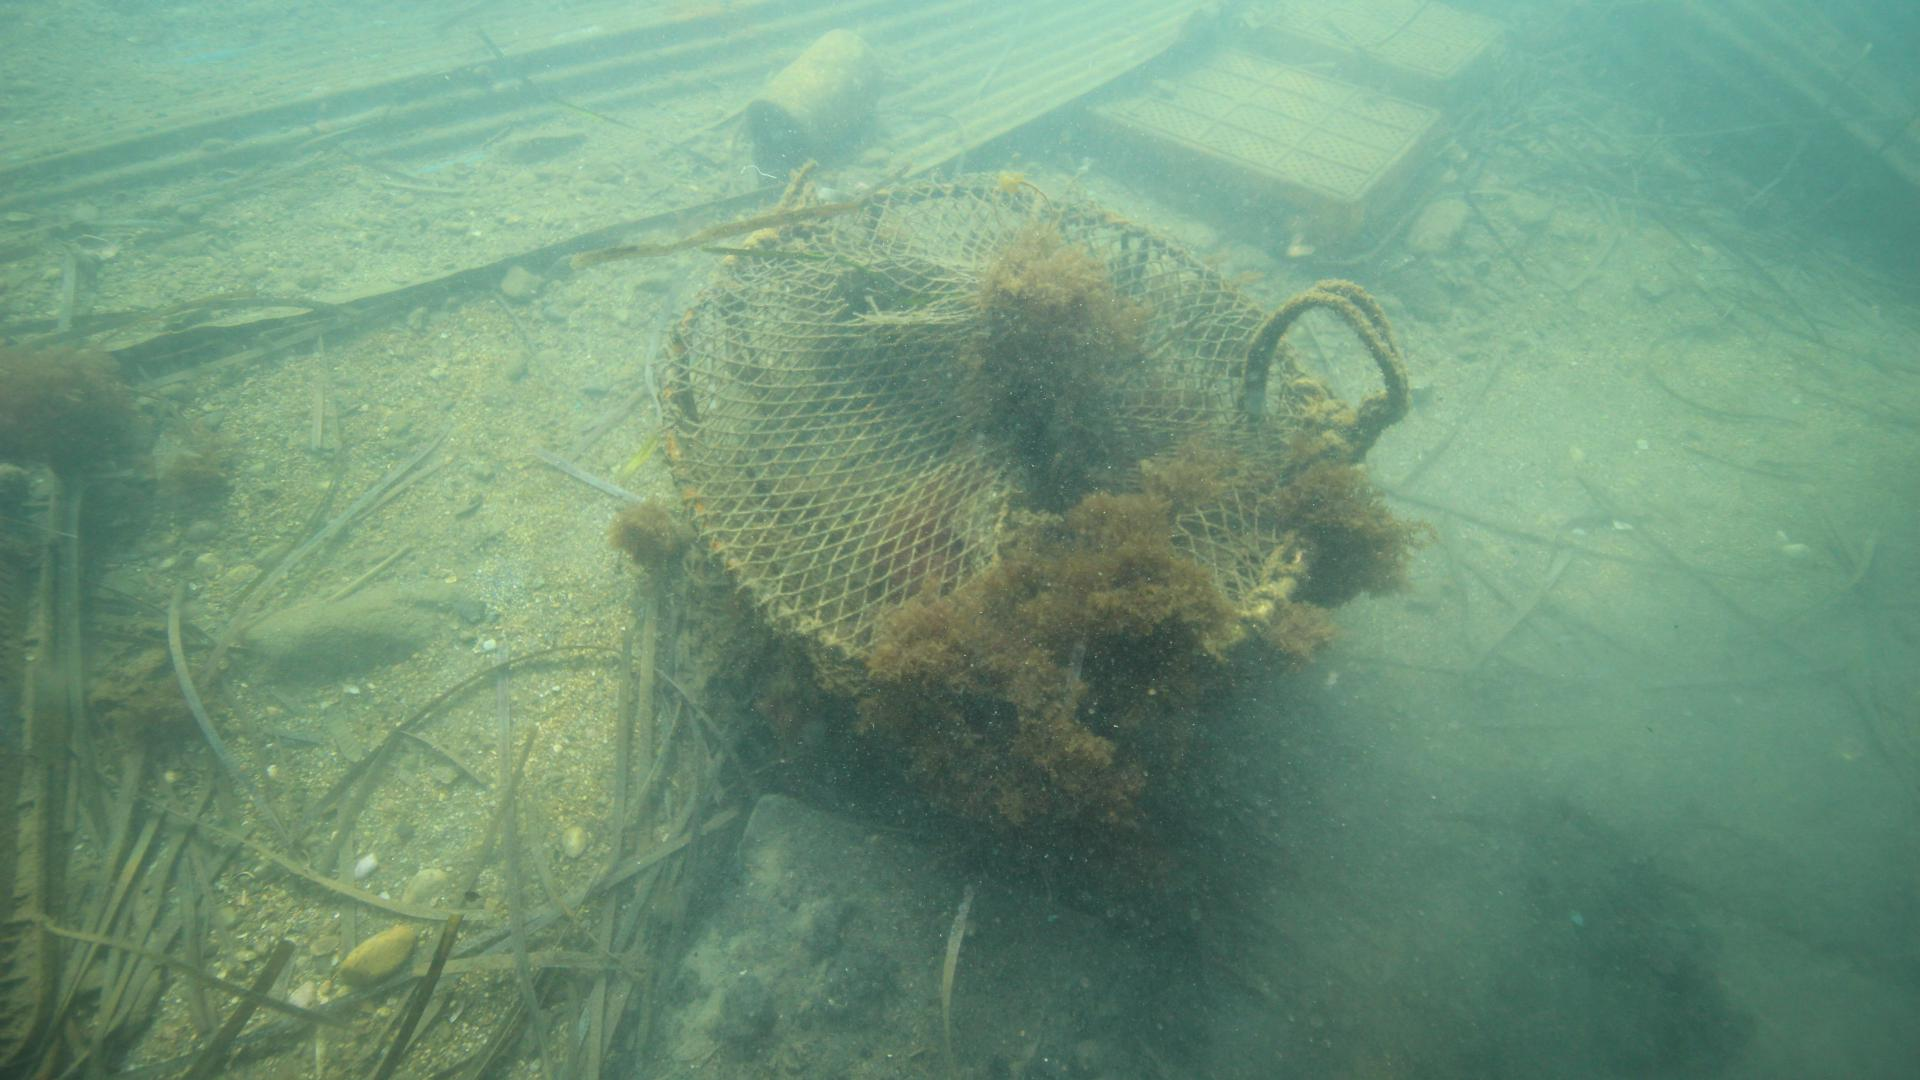bundle of ropes: (1241, 276, 1414, 462)
circular fish trap: (659, 179, 1349, 793)
